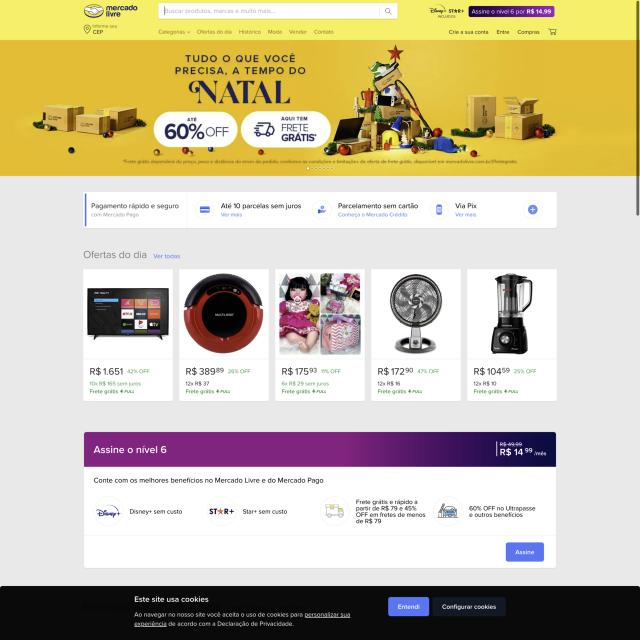CheckBox: (468, 5, 556, 18), (506, 541, 545, 563)
Spinner: (83, 268, 173, 402), (180, 268, 268, 400)
bag: (1, 0, 640, 42)
card: (0, 40, 639, 175)
header: (1, 585, 640, 640)
